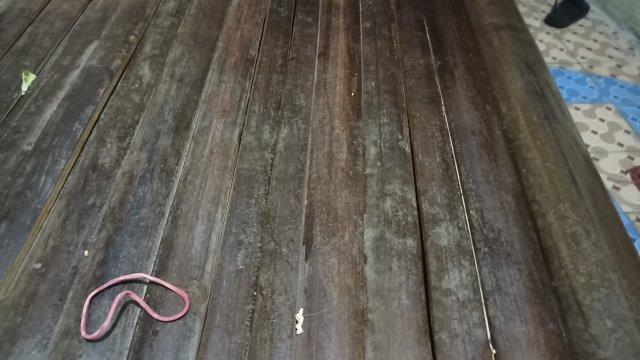karet: (81, 273, 189, 339)
